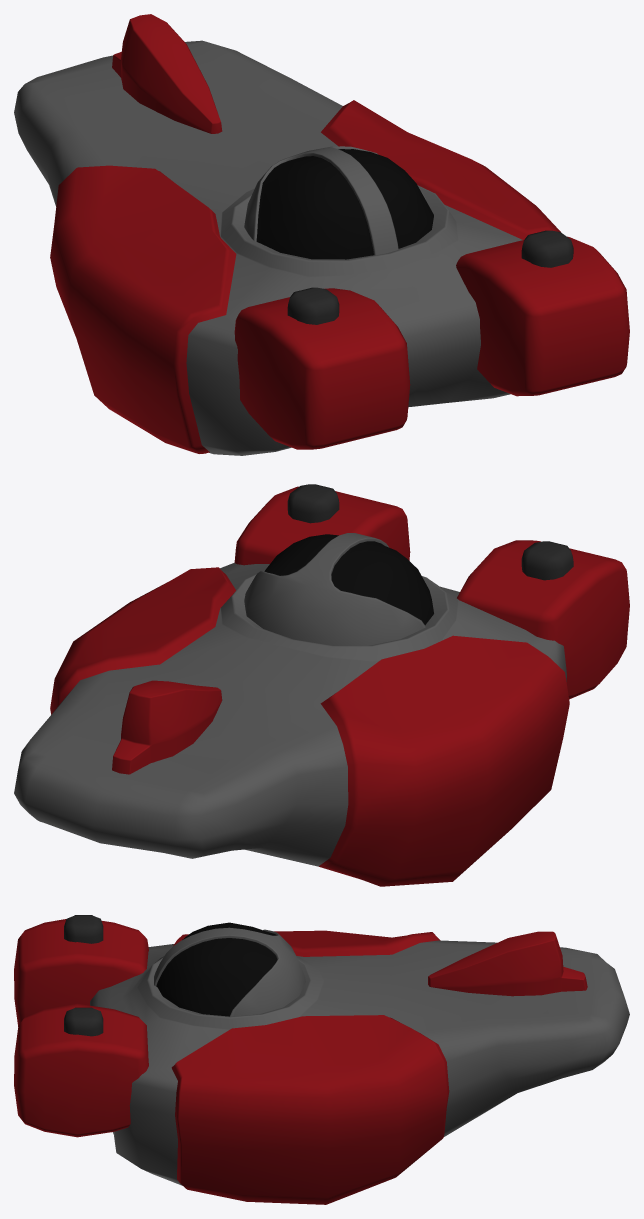
Rendered from Ship_enemy_04_Hull.fbx.
3 renders of one model, top to bottom at view 1: azimuth 30°, elevation 25°; view 2: azimuth 150°, elevation 25°; view 3: azimuth 270°, elevation 25°, orthographic. The views are drawn at different scales.
Visible parts, largest first — view 1: Ship_enemy_04_Hull; view 2: Ship_enemy_04_Hull; view 3: Ship_enemy_04_Hull.
Boxes of the visible parts, bbox=[...] form: Ship_enemy_04_Hull: bbox=[14, 14, 629, 455]; Ship_enemy_04_Hull: bbox=[14, 484, 629, 886]; Ship_enemy_04_Hull: bbox=[14, 915, 629, 1204].
Size of the model in its own units: 372 by 216 by 583.
